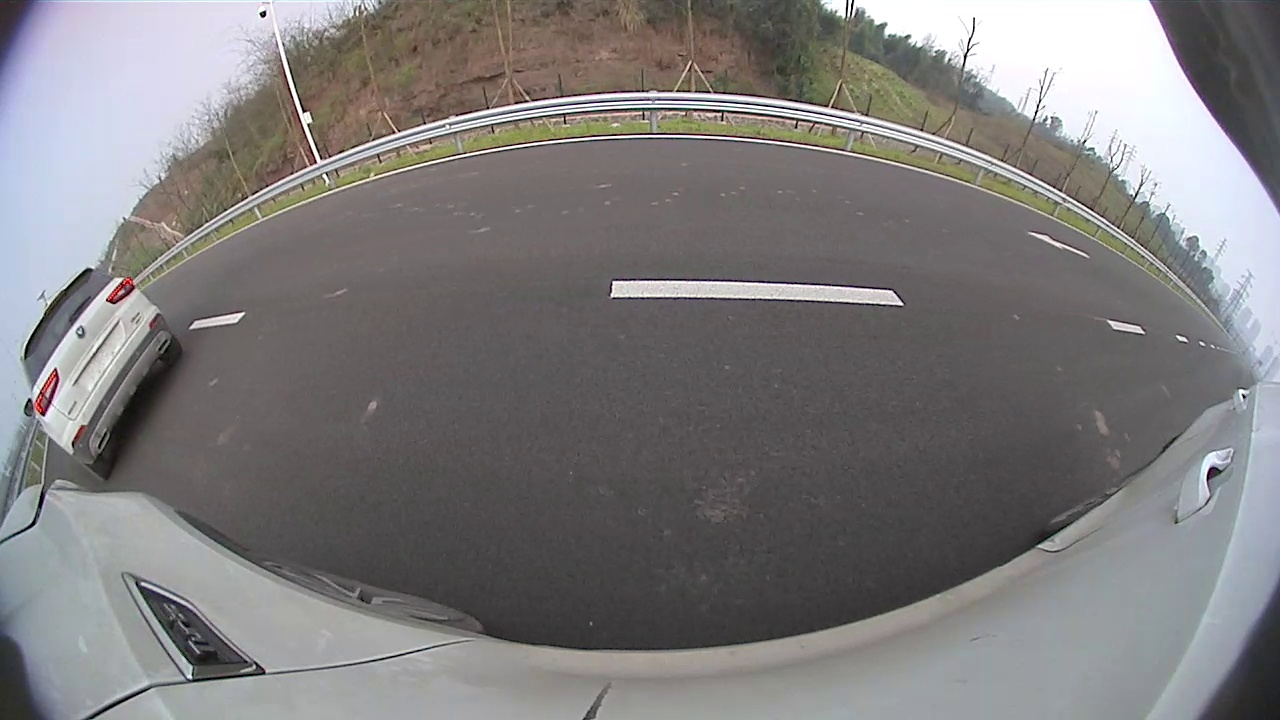car: (19, 267, 182, 483)
